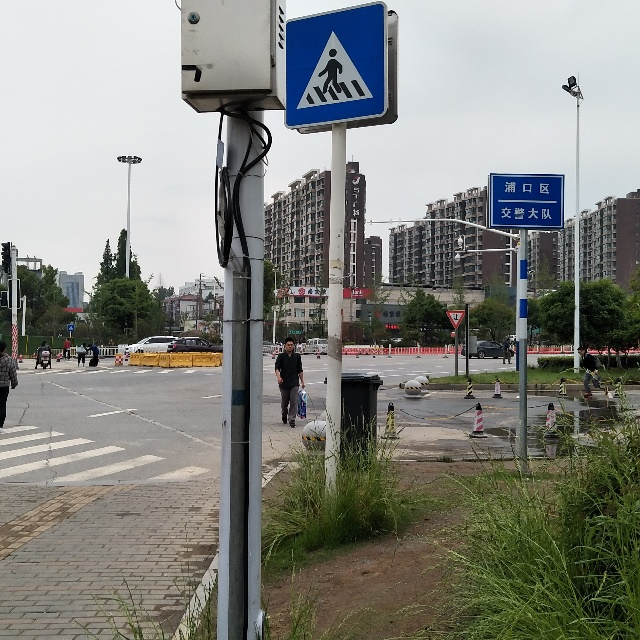crosswalk: (283, 2, 400, 136)
